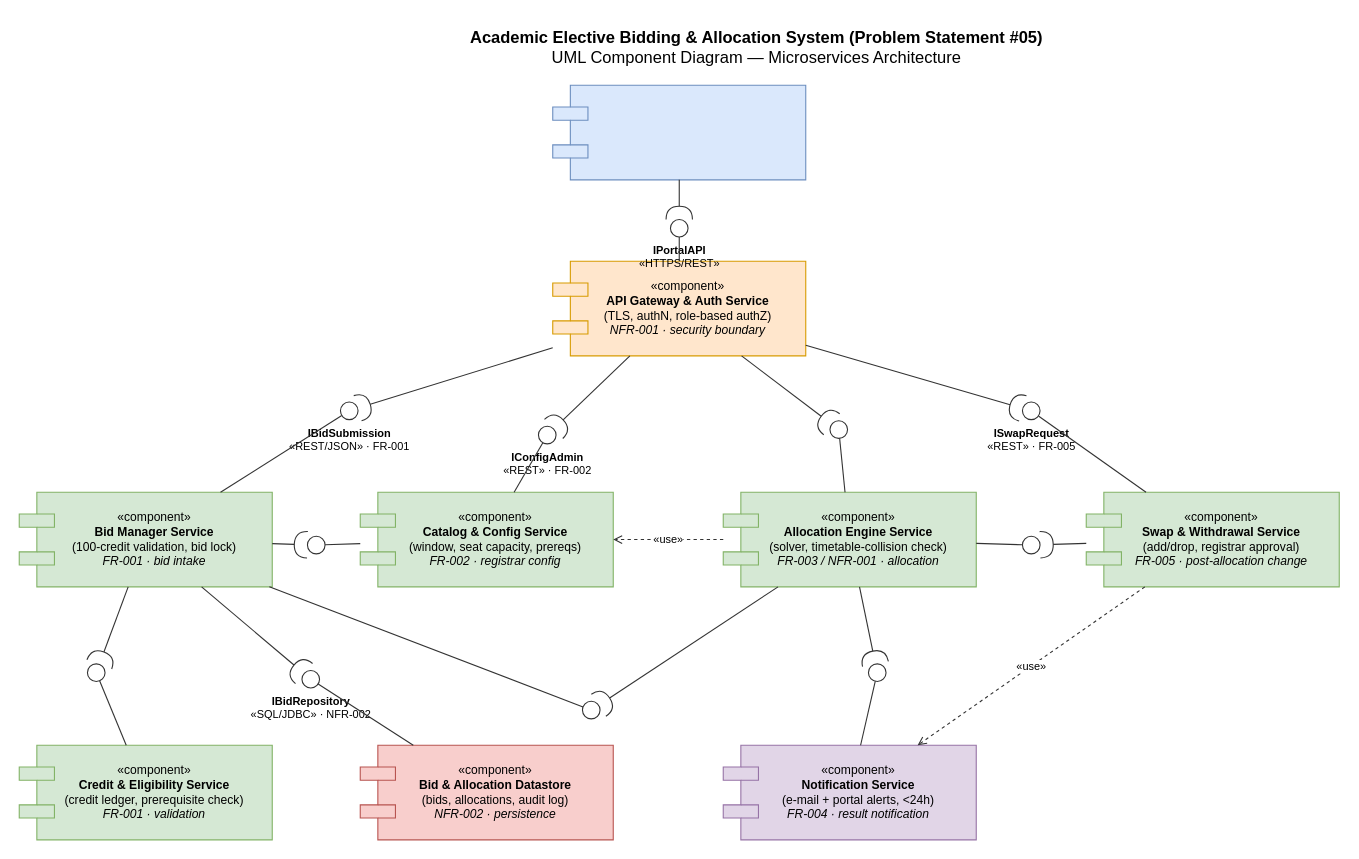
This 1359x859 diagram has some shape labels left out. Each missing label, with the box of its shape:
IAllocationRun «REST» · FR-003: (829, 420, 848, 438)
IBidQuery «REST» · FR-003: (581, 700, 600, 719)
ICatalogQuery «REST» · FR-002: (306, 535, 325, 554)
IEligibilityCheck «gRPC» · FR-001: (86, 663, 105, 681)
INotifyResult «AMQP/async» · FR-004: (867, 663, 886, 681)
ISeatUpdate «REST» · FR-005: (1021, 535, 1040, 554)
«component» Web Portal (Student & Registrar UI) FR-001..FR-005 · presentation: (552, 84, 806, 180)
